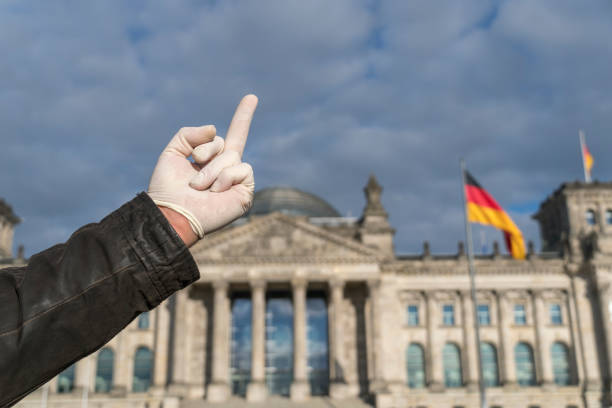insulting_gesture: (149, 93, 257, 236)
